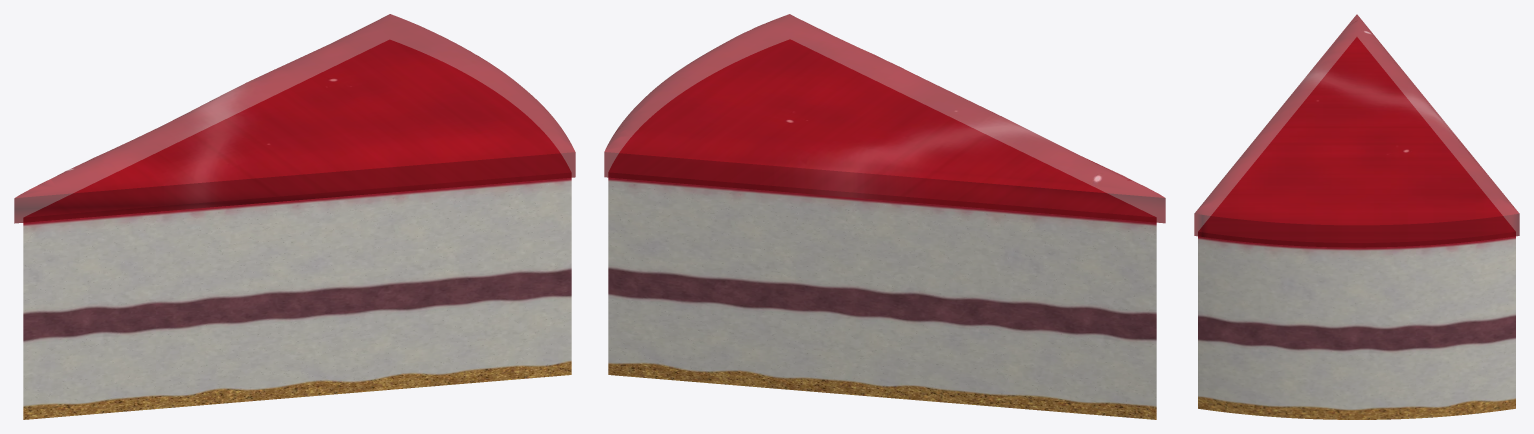
Rendered from raspberry-cheesecake.glb.
3 renders of one model, left to right at view 1: azimuth 30°, elevation 25°; view 2: azimuth 150°, elevation 25°; view 3: azimuth 270°, elevation 25°, orthographic. The views are drawn at different scales.
Parts seen in each view (by area): view 1: cake; view 2: cake; view 3: cake.
Boxes of the visible parts, x1,y1,x2,y2 form: cake: [14, 14, 575, 419]; cake: [604, 14, 1165, 419]; cake: [1194, 14, 1519, 419].
Bounding box in the file's own units: 1.02 × 0.4711 × 0.6664.
2 materials, 2 textured.
